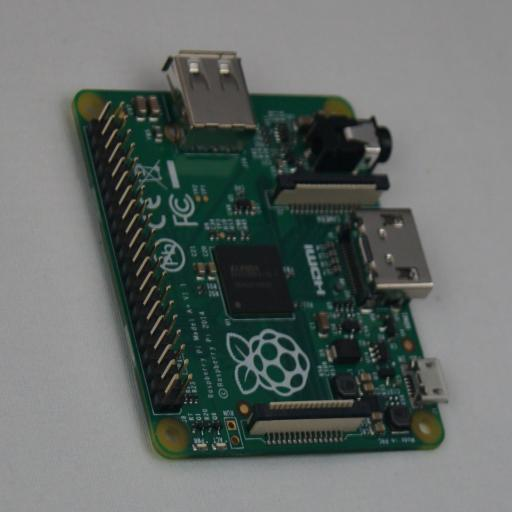Raspberry Pi A-: (72, 52, 448, 462)
